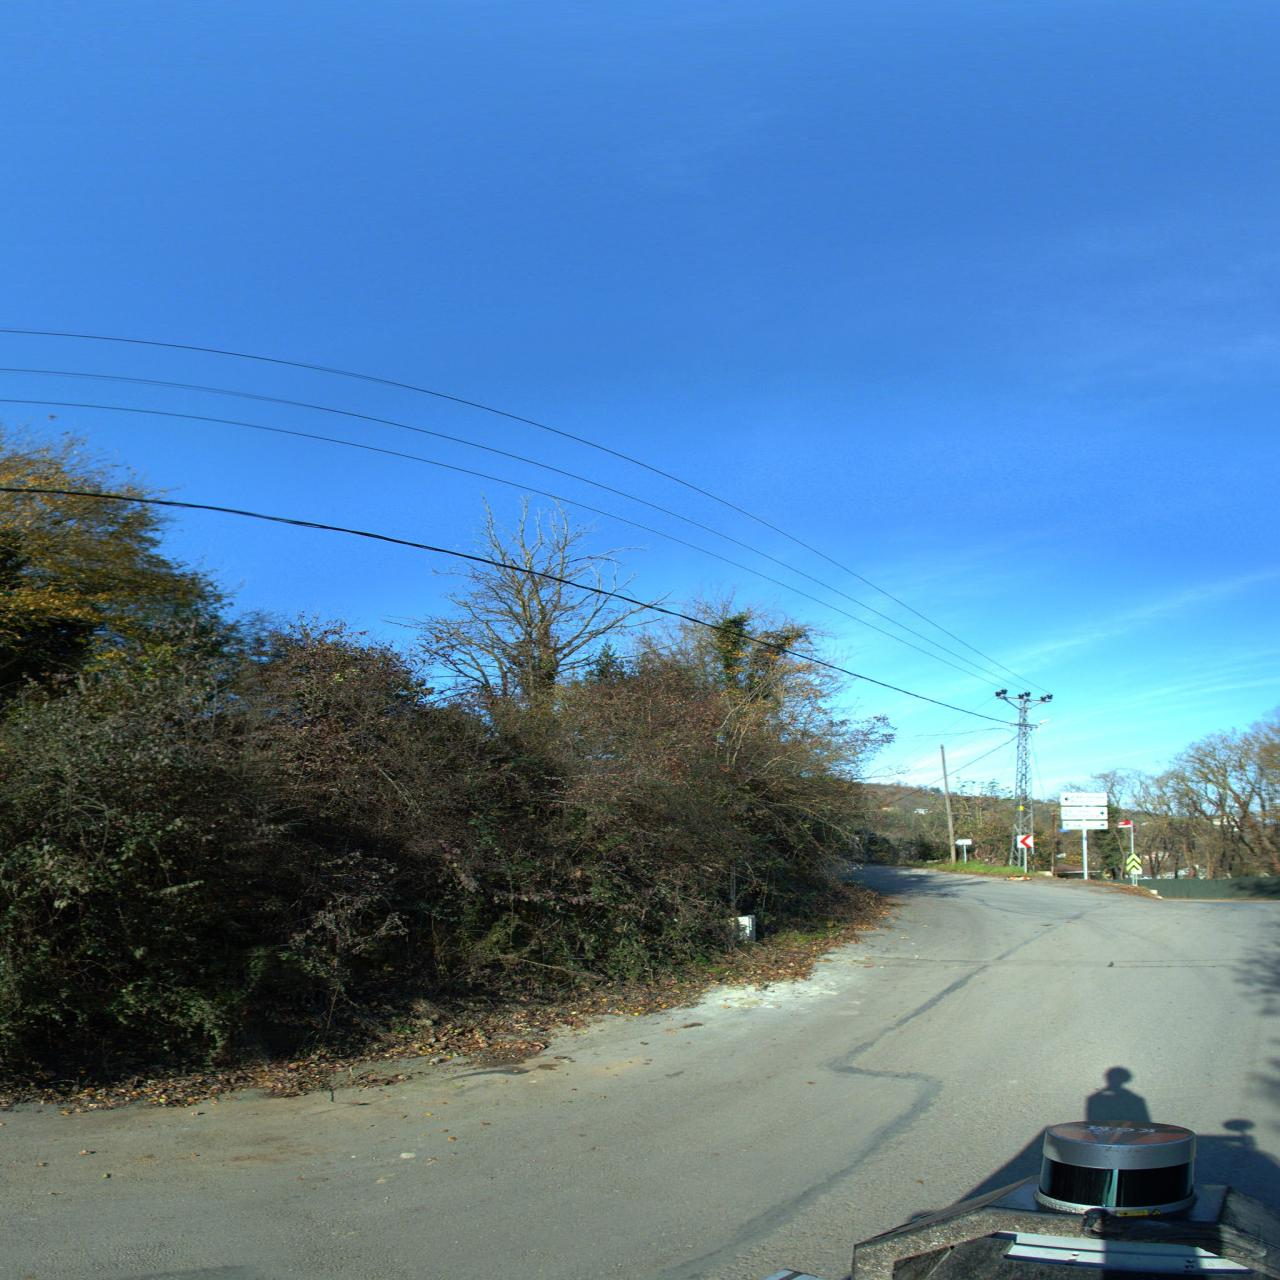Utility Pole Information Plate: (1017, 835, 1035, 849), (1019, 805, 1023, 810)
